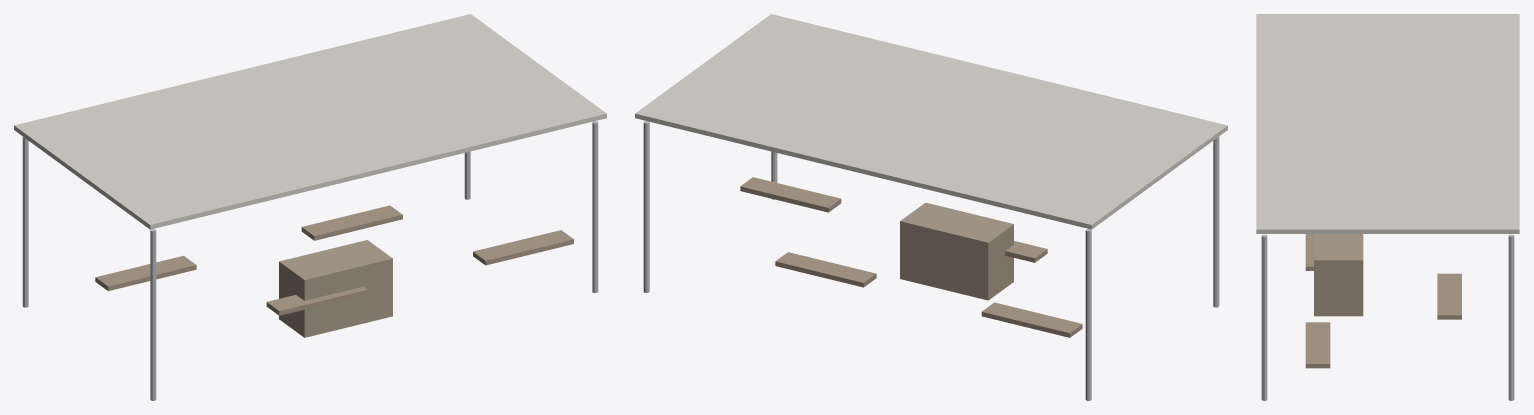
Rendered from SM_Repos.glb.
The picture shows the model from 3 angles, left to right: view 1: azimuth 30°, elevation 25°; view 2: azimuth 150°, elevation 25°; view 3: azimuth 270°, elevation 25°; orthographic projection. The views are drawn at different scales.
Visible parts, largest first — view 1: SM_Repos_4, SM_Repos_9, SM_Repos_7, SM_Repos_8, SM_Repos_5, SM_Repos_1, SM_Repos_3, SM_Repos_0, SM_Repos_6; view 2: SM_Repos_4, SM_Repos_9, SM_Repos_5, SM_Repos_7, SM_Repos_8, SM_Repos_0, SM_Repos_2, SM_Repos_1, SM_Repos_6; view 3: SM_Repos_4, SM_Repos_9, SM_Repos_8, SM_Repos_7, SM_Repos_2, SM_Repos_3, SM_Repos_6.
Part boxes in pixels (x1,y1,x2,y2): SM_Repos_4: (14, 14, 606, 229); SM_Repos_9: (279, 240, 392, 337); SM_Repos_7: (301, 205, 402, 240); SM_Repos_8: (473, 230, 573, 265); SM_Repos_5: (95, 255, 196, 290); SM_Repos_1: (150, 229, 156, 400); SM_Repos_3: (592, 121, 598, 292); SM_Repos_0: (22, 136, 28, 307); SM_Repos_6: (266, 286, 367, 315); SM_Repos_4: (635, 14, 1227, 229); SM_Repos_9: (900, 202, 1013, 300); SM_Repos_5: (981, 302, 1082, 337); SM_Repos_7: (775, 252, 876, 287); SM_Repos_8: (740, 177, 841, 212); SM_Repos_0: (1085, 229, 1091, 400); SM_Repos_2: (643, 121, 649, 292); SM_Repos_1: (1213, 136, 1219, 307); SM_Repos_6: (1005, 241, 1047, 262); SM_Repos_4: (1256, 14, 1519, 233); SM_Repos_9: (1314, 234, 1363, 316); SM_Repos_8: (1305, 322, 1330, 368); SM_Repos_7: (1437, 273, 1461, 319); SM_Repos_2: (1508, 234, 1514, 400); SM_Repos_3: (1261, 234, 1267, 400); SM_Repos_6: (1305, 234, 1313, 270).
Bounding box in the file's own units: 6.2 × 2.33 × 3.2.
